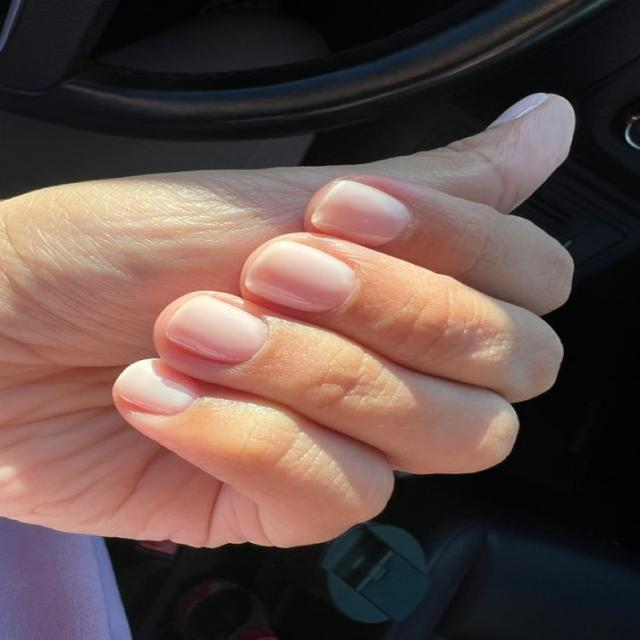Fingernail: (244, 239, 356, 313), (167, 296, 266, 362), (312, 182, 409, 246), (115, 360, 199, 414), (492, 94, 546, 127)
